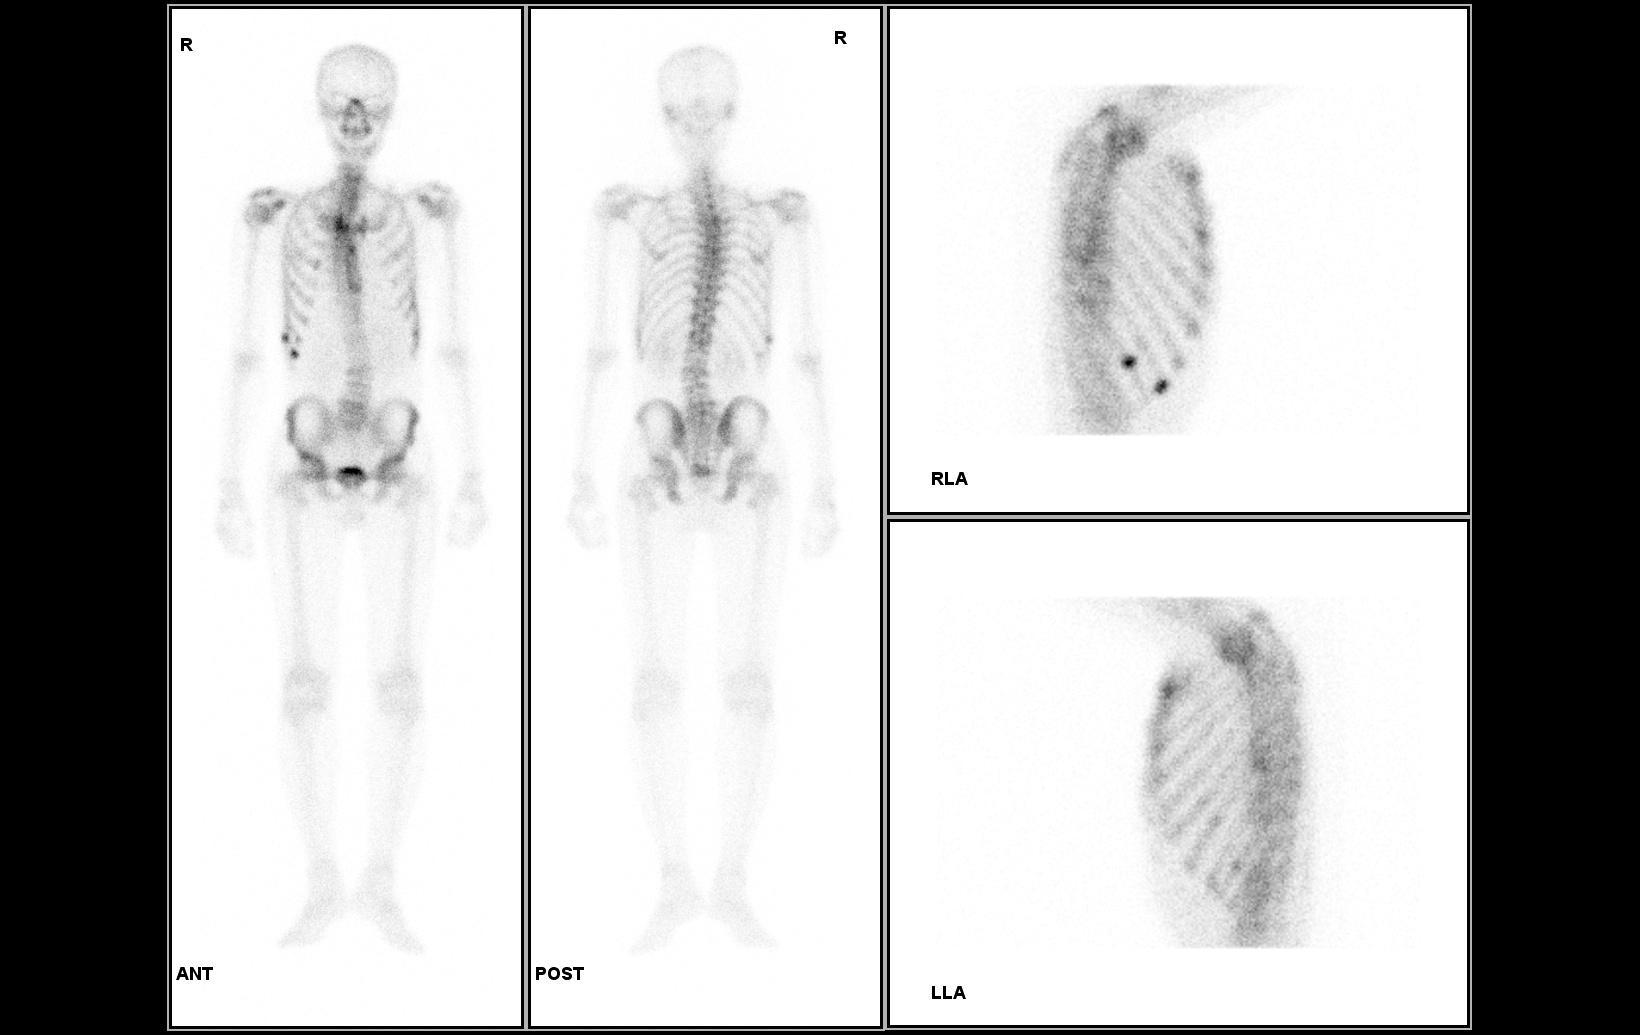person: (170, 6, 882, 1029)
